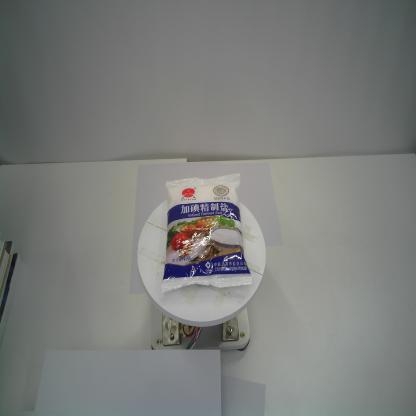Seasoner: (161, 171, 253, 293)
